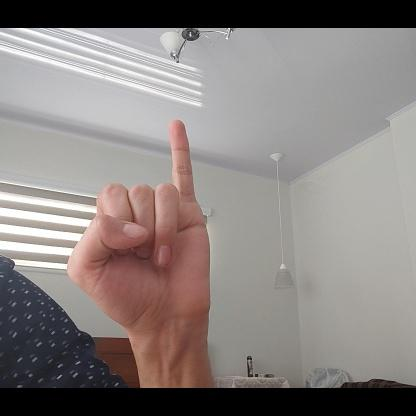I: (68, 118, 217, 323)
